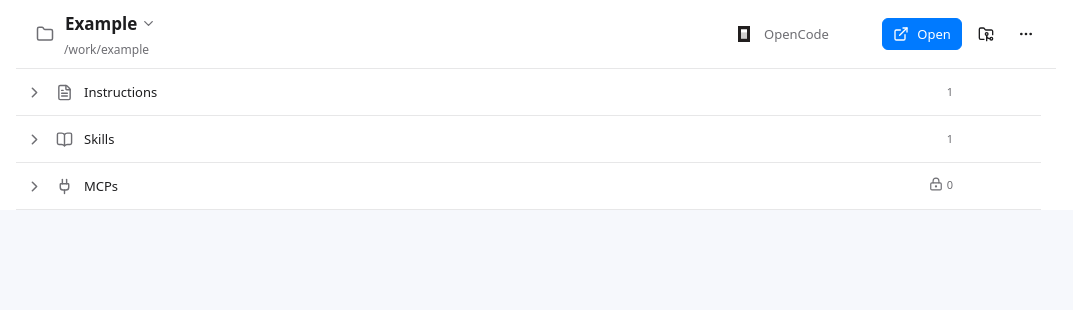
ProjectsWorkspace › keeps inspect-only Project Skill locations explicit and non-actionable
Click the button with aria-label "Expand Skills": {"x": 99, "y": 139} [16, 116, 963, 162]
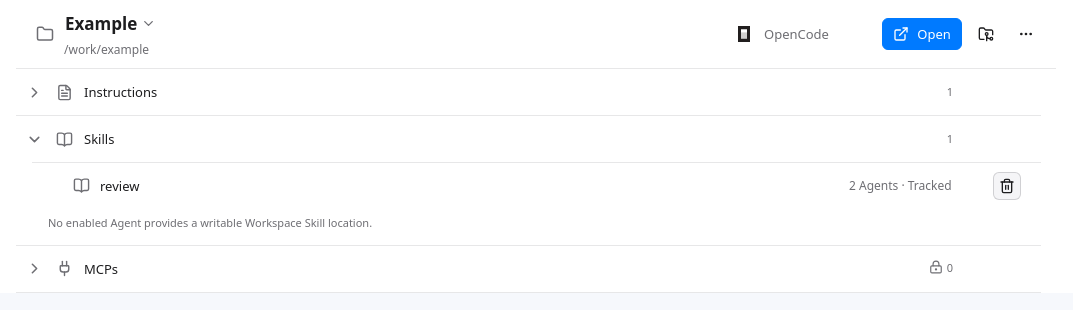
Result: the text "No enabled Agent provides a writable Workspace Skill location." is shown at [48, 215, 372, 230]
